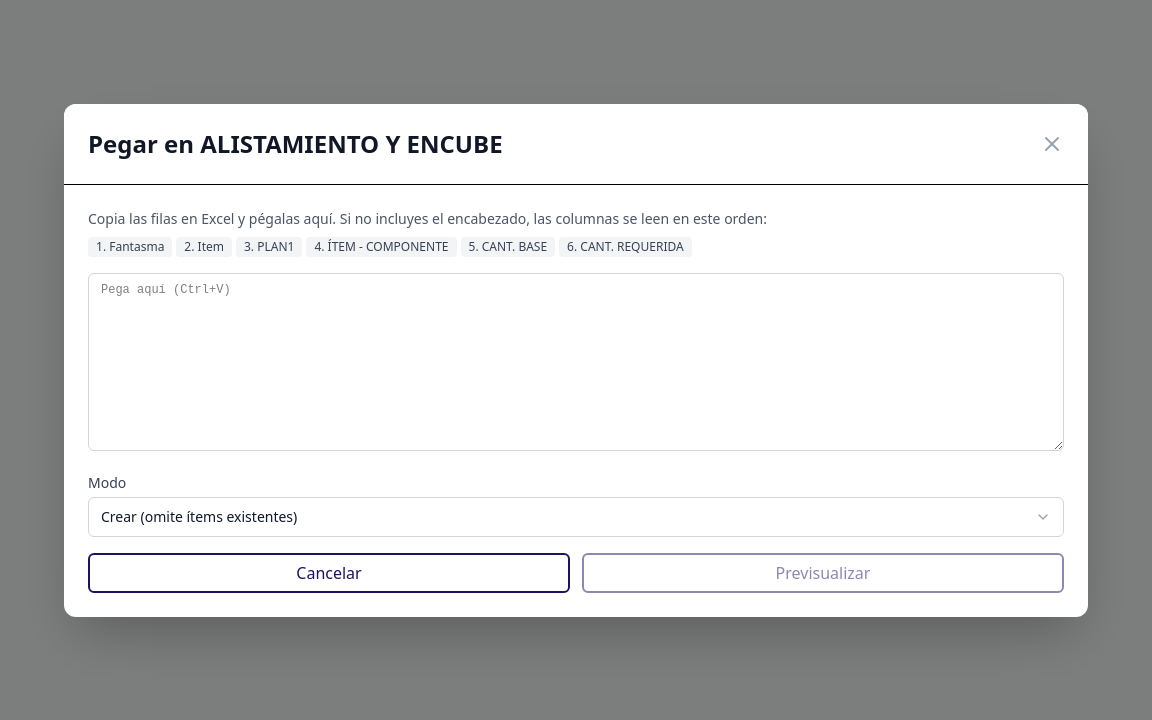
PhantomItemPasteModal › shows why the server could not read the rows
In the text box named "Filas copiadas de Excel": [576, 362] box x1=88 y1=272 x2=1064 y2=450, type "hola"
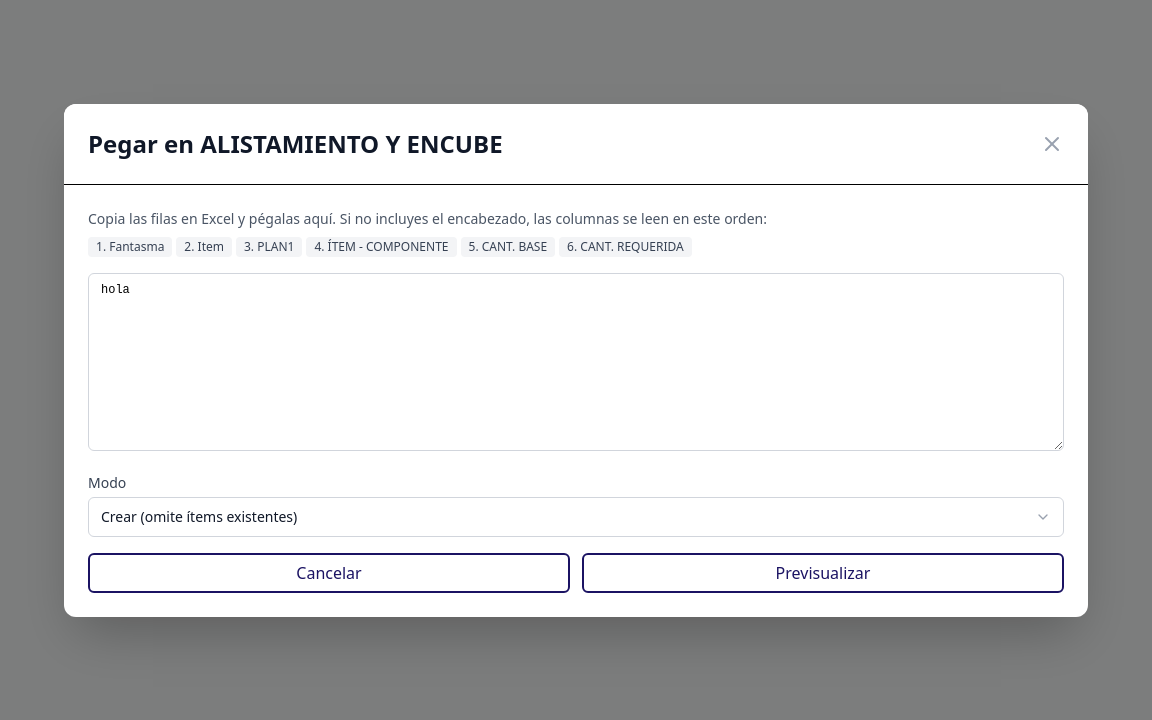
Click the button "Previsualizar": [823, 572] box x1=582 y1=552 x2=1064 y2=592
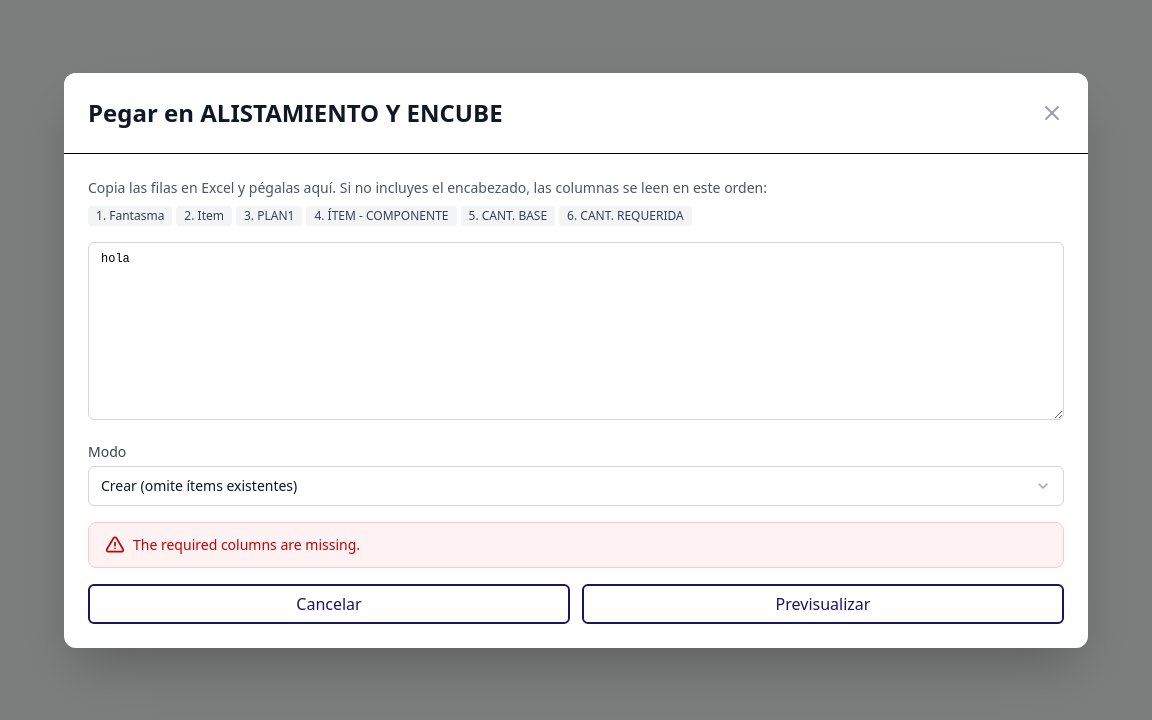
Check: the text "The required columns are missing." is shown, box x1=133 y1=534 x2=360 y2=554
